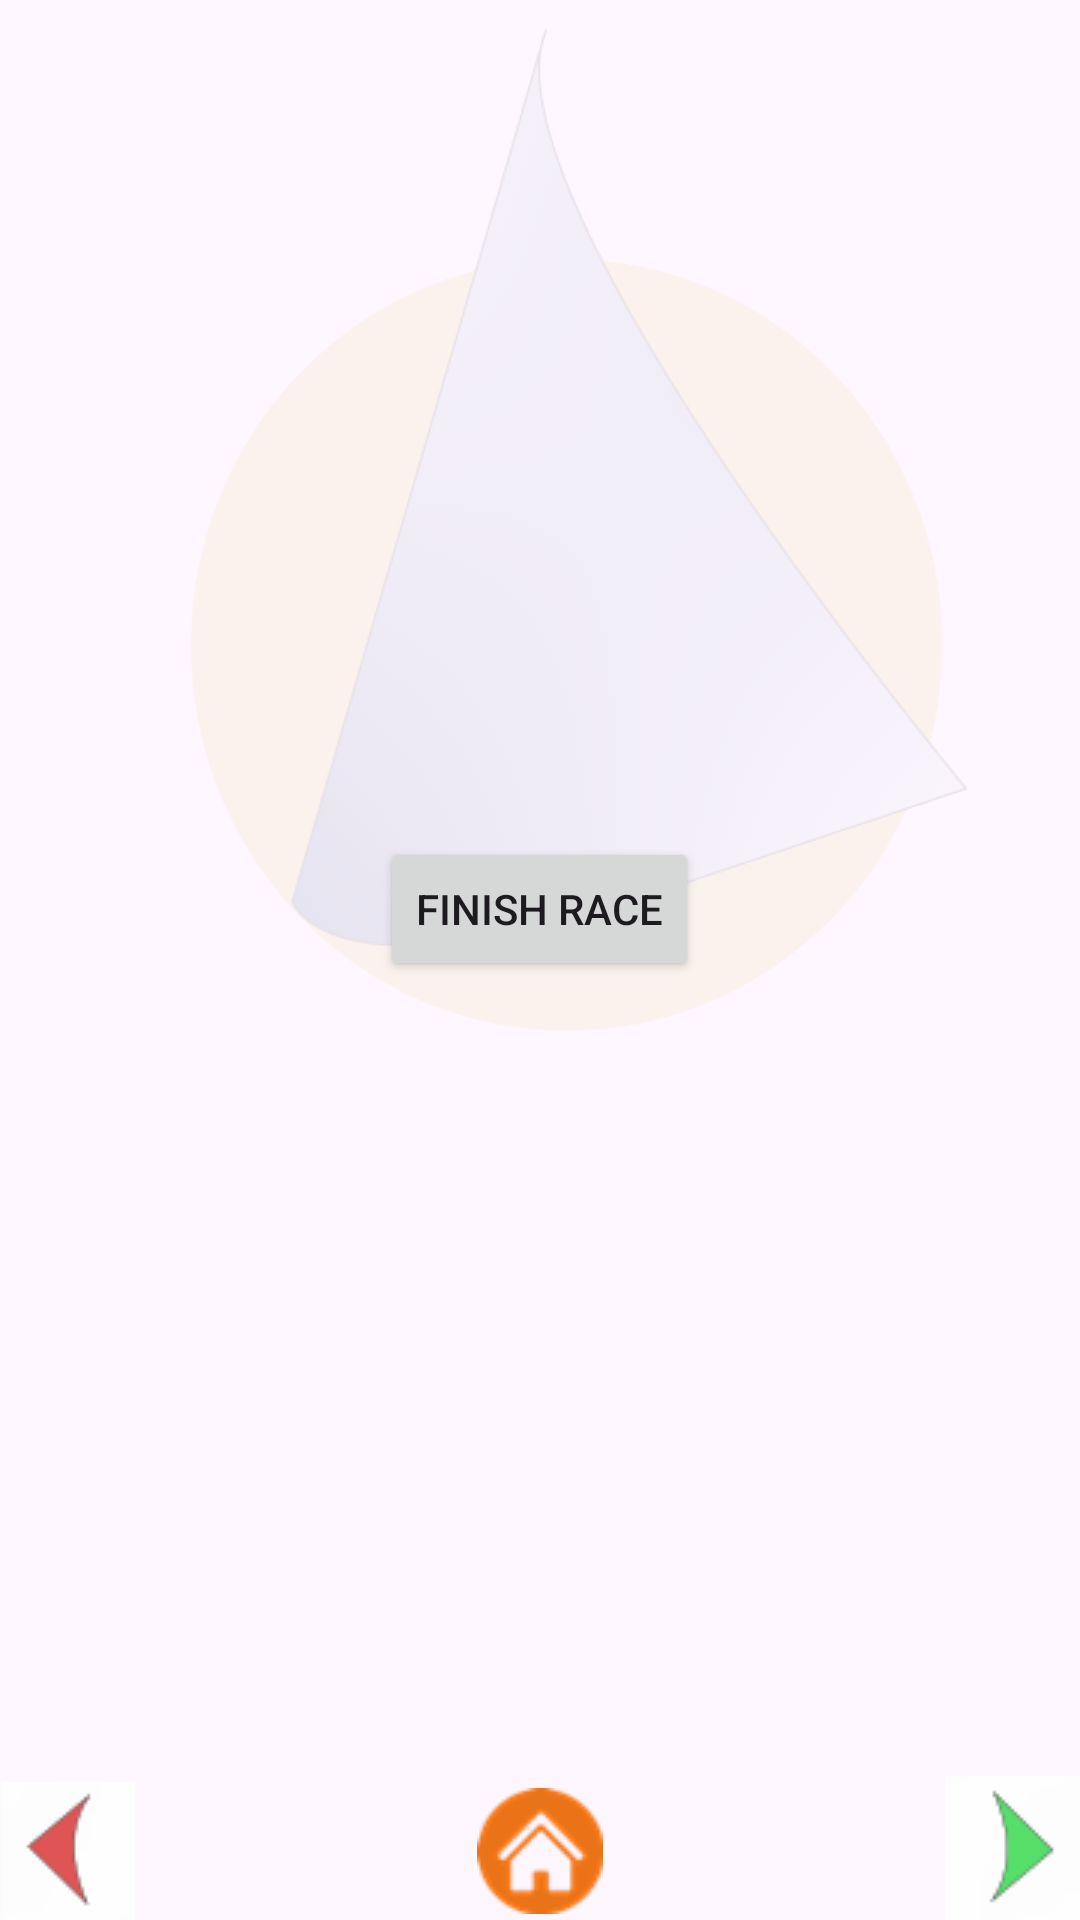

Icons on this 1080 x 1920 Android screen, each with the point to tap as point (x, y):
Home: point (540, 1851)
Left Nav: point (58, 1849)
Right Nav: point (1022, 1846)
